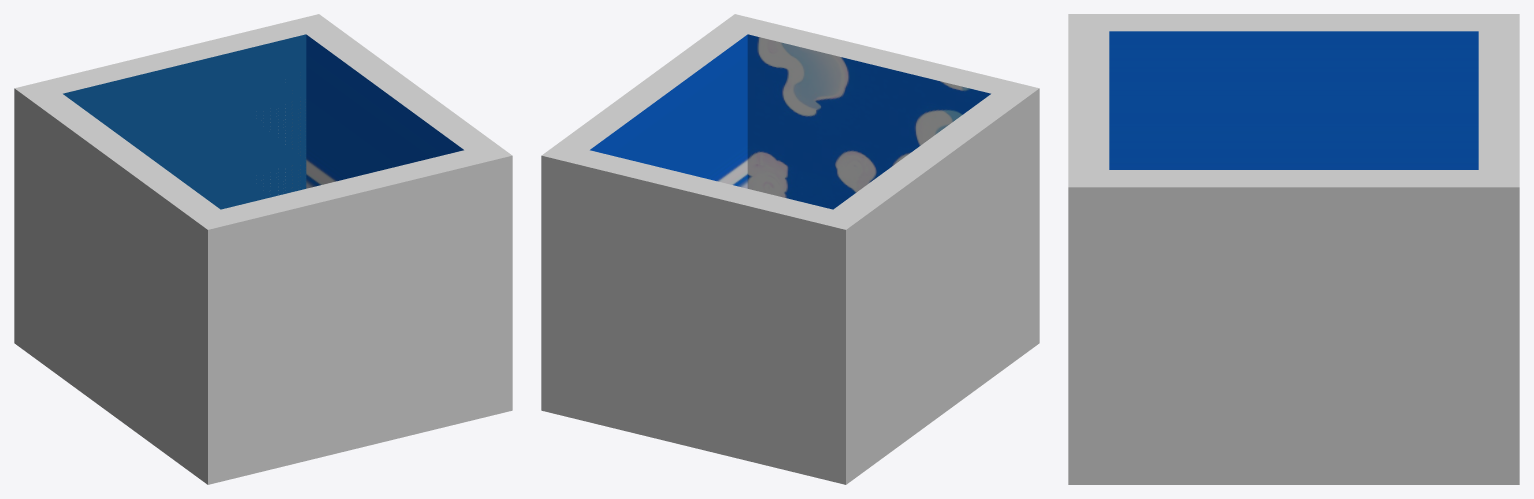
Rendered from murs_chambre.fbx.
3 renders of one model, left to right at view 1: azimuth 30°, elevation 25°; view 2: azimuth 150°, elevation 25°; view 3: azimuth 270°, elevation 25°, orthographic. The views are drawn at different scales.
Visible parts, largest first — view 1: Cube; view 2: Cube; view 3: Cube.
Part boxes in pixels (left/top/right/bottom): Cube: left=14, top=14, right=512, bottom=484; Cube: left=541, top=14, right=1039, bottom=484; Cube: left=1068, top=14, right=1519, bottom=484.
Bounding box in the file's own units: 400 × 320 × 440.
Materials: 2 (1 with a texture image).
